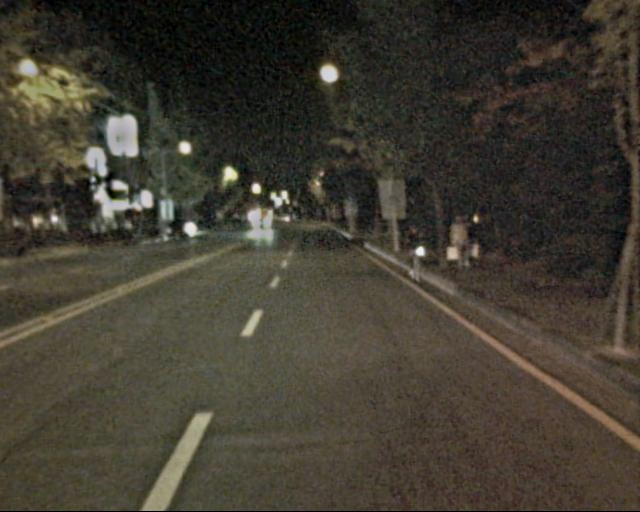person: (404, 226, 428, 280), (448, 215, 472, 268), (460, 216, 483, 271)
